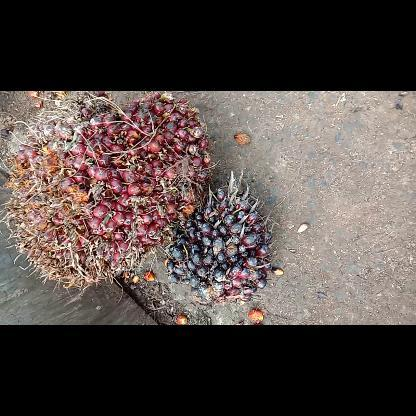TBS abnormal: (161, 174, 275, 304)
TBS masak: (6, 92, 212, 289)
